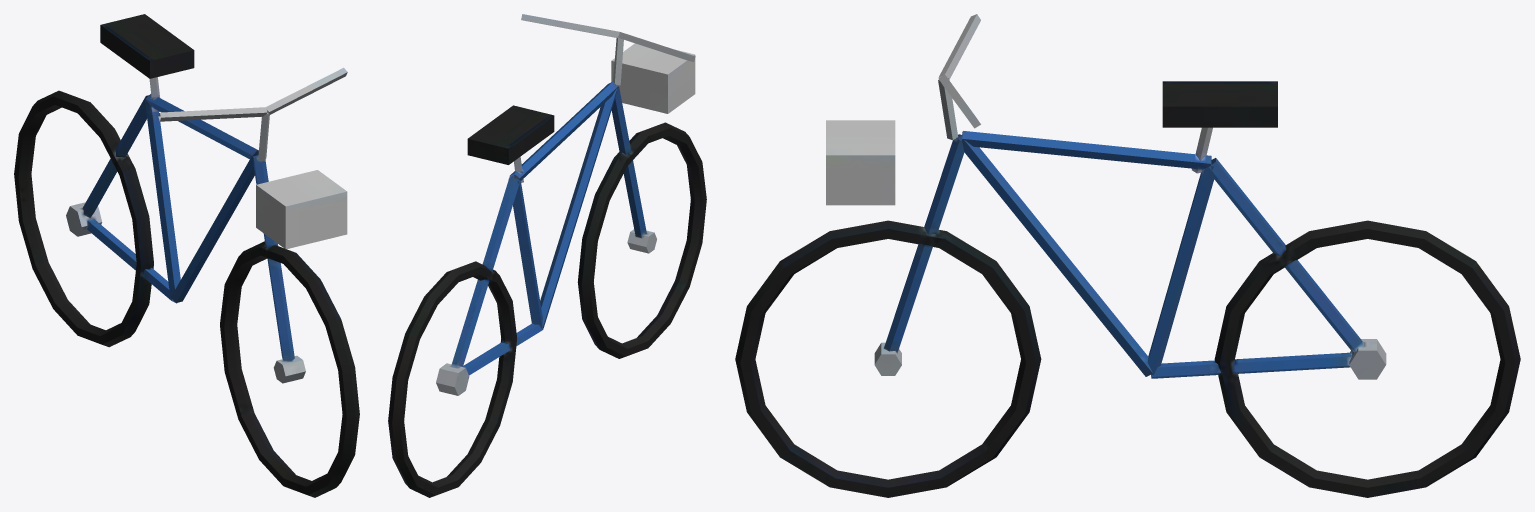
The model's file is detail_bicycle.glb.
The picture shows the model from 3 angles, left to right: view 1: azimuth 30°, elevation 25°; view 2: azimuth 150°, elevation 25°; view 3: azimuth 270°, elevation 25°; orthographic projection. The views are drawn at different scales.
Parts seen in each view (by area): view 1: detail_bicycle_LOD0; view 2: detail_bicycle_LOD0; view 3: detail_bicycle_LOD0.
Part boxes in pixels (box(x1,y1,x2,y2)): detail_bicycle_LOD0: box(14, 14, 359, 497); detail_bicycle_LOD0: box(388, 14, 706, 497); detail_bicycle_LOD0: box(735, 14, 1520, 497).
Size of what is drawn, in the model's own units: 0.5449 by 1.03 by 1.7.
1 material, 1 textured.
